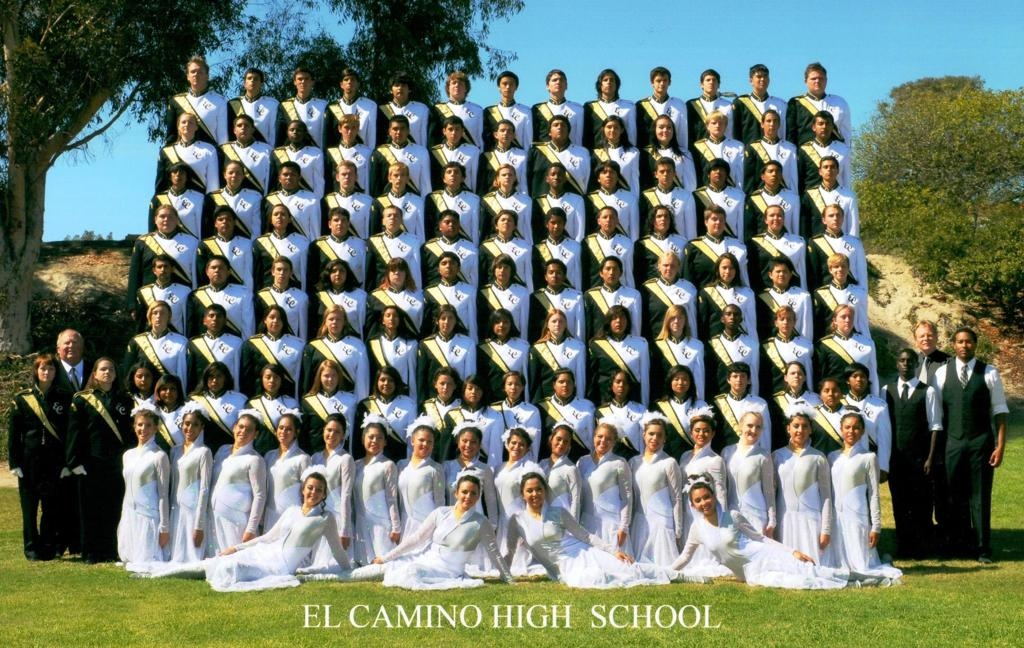human_face: (58, 330, 82, 360), (690, 485, 714, 515), (456, 428, 480, 457), (233, 414, 255, 444), (456, 478, 478, 508), (522, 478, 544, 507), (594, 424, 614, 453), (788, 417, 810, 443), (303, 476, 323, 504), (742, 414, 762, 442), (644, 423, 664, 451), (954, 331, 974, 359), (414, 429, 434, 457), (364, 425, 384, 453), (180, 412, 200, 439), (842, 416, 862, 443), (322, 419, 342, 445), (916, 324, 936, 350), (550, 428, 570, 454), (276, 416, 294, 444), (436, 372, 454, 400), (692, 419, 712, 444), (554, 371, 572, 398), (508, 432, 526, 459), (132, 366, 152, 390), (204, 307, 224, 331), (186, 62, 206, 86), (278, 165, 298, 189), (157, 208, 177, 232), (208, 260, 228, 284), (598, 164, 618, 188), (848, 367, 868, 391), (134, 414, 152, 440), (206, 366, 224, 392), (326, 308, 344, 334), (390, 118, 408, 144), (822, 381, 840, 407), (718, 256, 736, 282), (602, 259, 620, 285), (438, 255, 458, 278), (262, 368, 280, 393), (706, 209, 724, 234), (897, 352, 915, 377), (836, 307, 854, 332), (504, 373, 522, 398), (376, 369, 394, 394), (386, 263, 406, 285), (548, 118, 568, 140), (807, 70, 827, 92), (750, 68, 770, 90), (160, 378, 178, 402), (97, 358, 115, 382), (150, 305, 168, 329), (265, 308, 283, 332), (224, 163, 242, 187), (440, 212, 458, 236), (330, 210, 348, 234), (654, 118, 672, 142), (652, 208, 670, 232), (772, 262, 790, 286), (786, 364, 804, 388), (776, 310, 794, 334), (729, 367, 747, 391), (670, 369, 688, 393), (660, 256, 678, 280), (667, 309, 685, 333), (546, 263, 564, 287), (320, 364, 336, 390), (37, 357, 55, 380), (272, 260, 290, 283), (656, 162, 674, 185), (766, 208, 784, 231), (448, 76, 466, 98), (340, 118, 358, 140), (234, 118, 252, 140), (178, 113, 196, 135), (270, 207, 288, 229), (328, 263, 346, 285), (497, 211, 515, 233), (762, 112, 780, 134), (814, 116, 832, 138), (824, 207, 842, 229), (830, 259, 848, 281), (723, 306, 741, 328), (437, 311, 455, 333), (464, 380, 482, 402), (338, 165, 354, 189), (216, 210, 232, 234), (610, 309, 626, 333), (492, 312, 508, 336), (294, 70, 312, 91), (599, 73, 617, 94), (652, 70, 670, 91), (546, 165, 564, 186), (708, 164, 726, 185), (599, 210, 615, 233), (548, 213, 564, 236), (612, 373, 628, 396), (391, 78, 409, 98), (391, 166, 407, 188), (288, 121, 304, 143), (384, 208, 400, 230), (154, 258, 170, 280), (497, 122, 513, 144), (764, 163, 780, 185), (548, 312, 564, 334), (382, 306, 398, 328), (548, 74, 566, 93), (445, 121, 461, 142), (444, 165, 460, 186), (498, 76, 516, 94), (244, 71, 260, 91), (340, 72, 356, 92), (170, 166, 186, 186), (709, 116, 725, 136), (820, 160, 836, 180), (494, 260, 510, 280), (702, 74, 718, 93), (604, 119, 620, 138), (498, 168, 514, 186)
